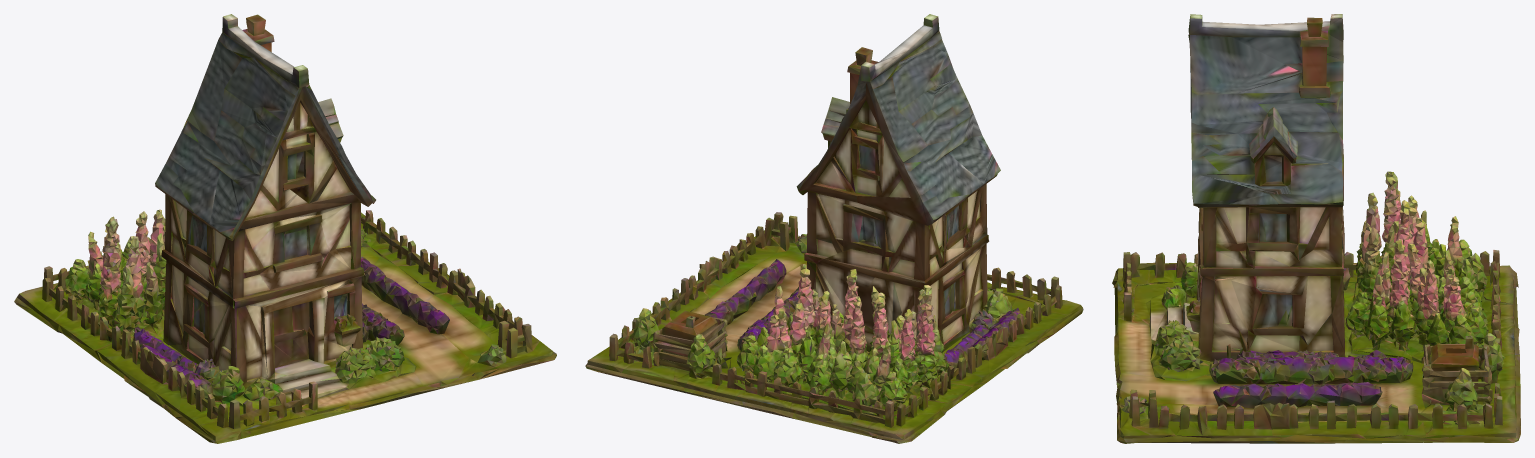
Rendered from town_cottage_tall.glb.
The picture shows the model from 3 angles, left to right: view 1: azimuth 30°, elevation 25°; view 2: azimuth 150°, elevation 25°; view 3: azimuth 270°, elevation 25°; orthographic projection. The views are drawn at different scales.
Parts seen in each view (by area): view 1: normalize; view 2: normalize; view 3: normalize.
Part boxes in pixels (<box>): normalize: <box>14,14,556,443</box>; normalize: <box>585,14,1083,443</box>; normalize: <box>1112,14,1520,443</box>.
Size of the model in its own units: 1 by 0.8682 by 0.9955.
Materials: 1 (1 with a texture image).
